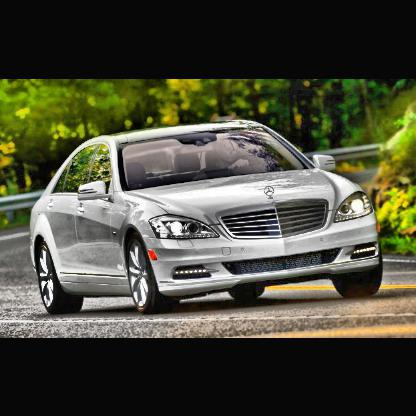Mercedes-Benz S-Class Sedan 2012: (32, 119, 385, 315)
